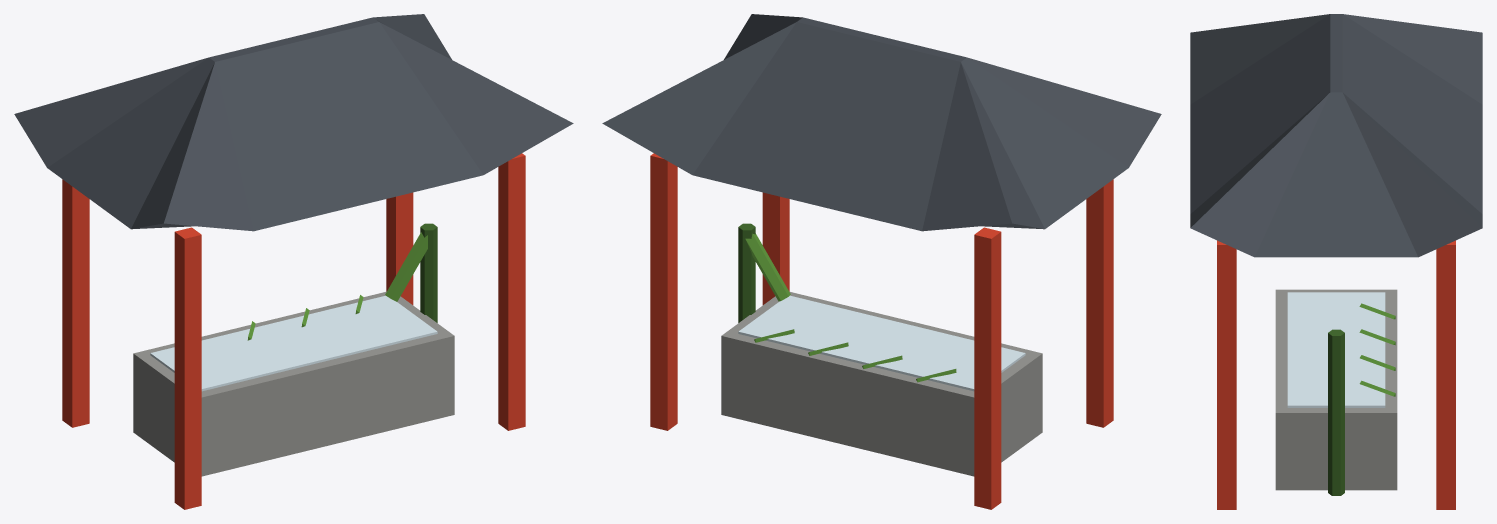
File: temizuya.glb
3 views of the same model, side by side, from view 1: azimuth 30°, elevation 25°; view 2: azimuth 150°, elevation 25°; view 3: azimuth 270°, elevation 25° (orthographic). The views are drawn at different scales.
Parts seen in each view (by area): view 1: temizuya; view 2: temizuya; view 3: temizuya.
Part boxes in pixels (x1=…): temizuya: x1=14, y1=14, x2=573, y2=509; temizuya: x1=602, y1=14, x2=1161, y2=509; temizuya: x1=1190, y1=14, x2=1482, y2=509.
Bounding box in the file's own units: 3.8 × 3.4 × 2.4.
